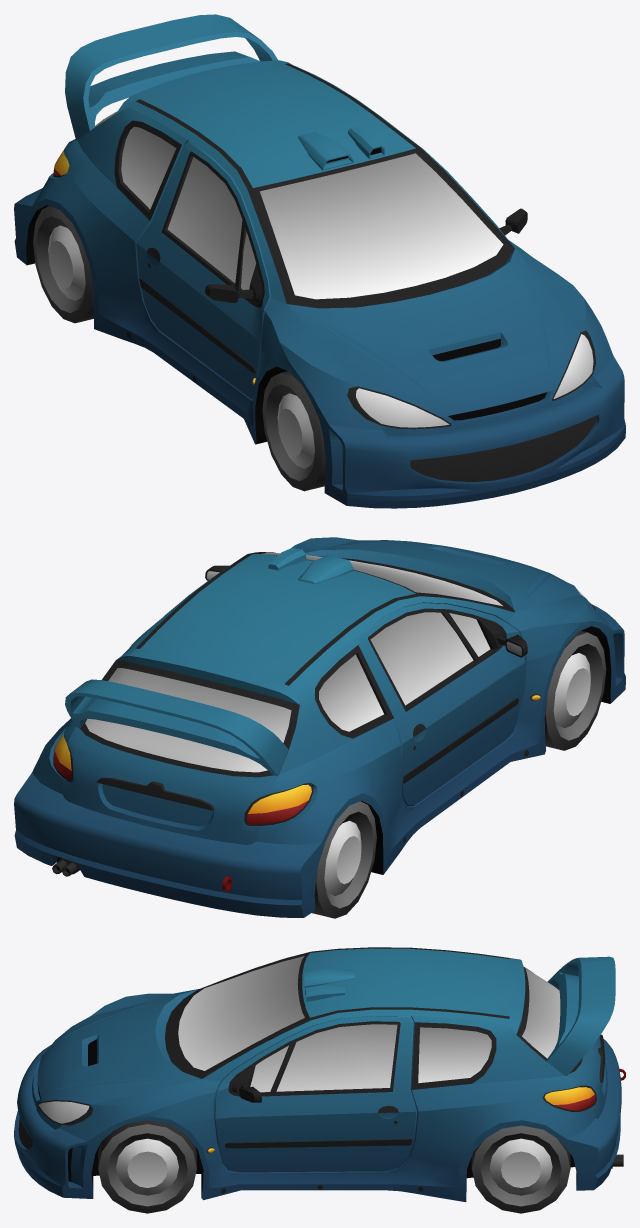
File: VEHICLE - PEUGEOT 206.fbx
3 views of the same model, one above another, from view 1: azimuth 30°, elevation 25°; view 2: azimuth 150°, elevation 25°; view 3: azimuth 270°, elevation 25° (orthographic). The views are drawn at different scales.
Visible parts, largest first — view 1: Peugeot206, FRW, RRW; view 2: Peugeot206, FRW, RRW; view 3: Peugeot206, FLW, RLW.
Part boxes in pixels (x1,y1,x2,y2): Peugeot206: (14, 14, 625, 508); FRW: (262, 371, 325, 491); RRW: (33, 206, 93, 323); Peugeot206: (14, 537, 625, 917); FRW: (544, 631, 606, 750); RRW: (312, 801, 376, 918); Peugeot206: (14, 947, 625, 1202); FLW: (98, 1120, 196, 1213); RLW: (471, 1125, 570, 1213).
Bounding box in the file's own units: 213 × 146 × 435.
1 material, 1 textured.
